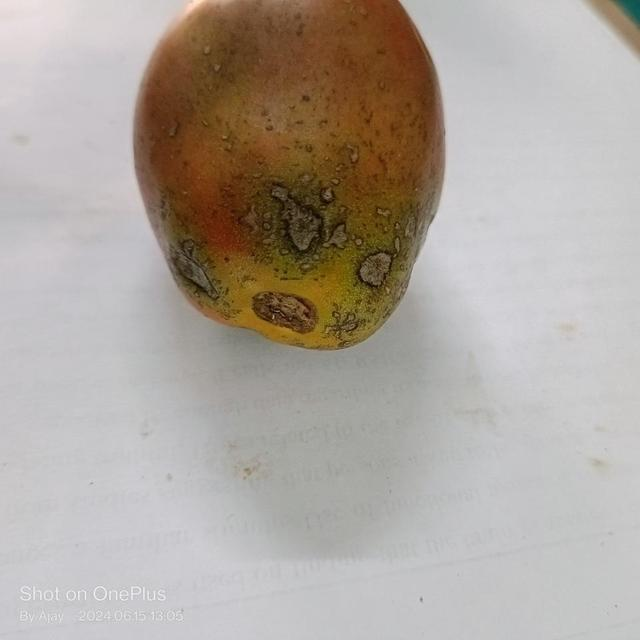Bacterial Spot Fruit: (28, 28, 250, 209)
